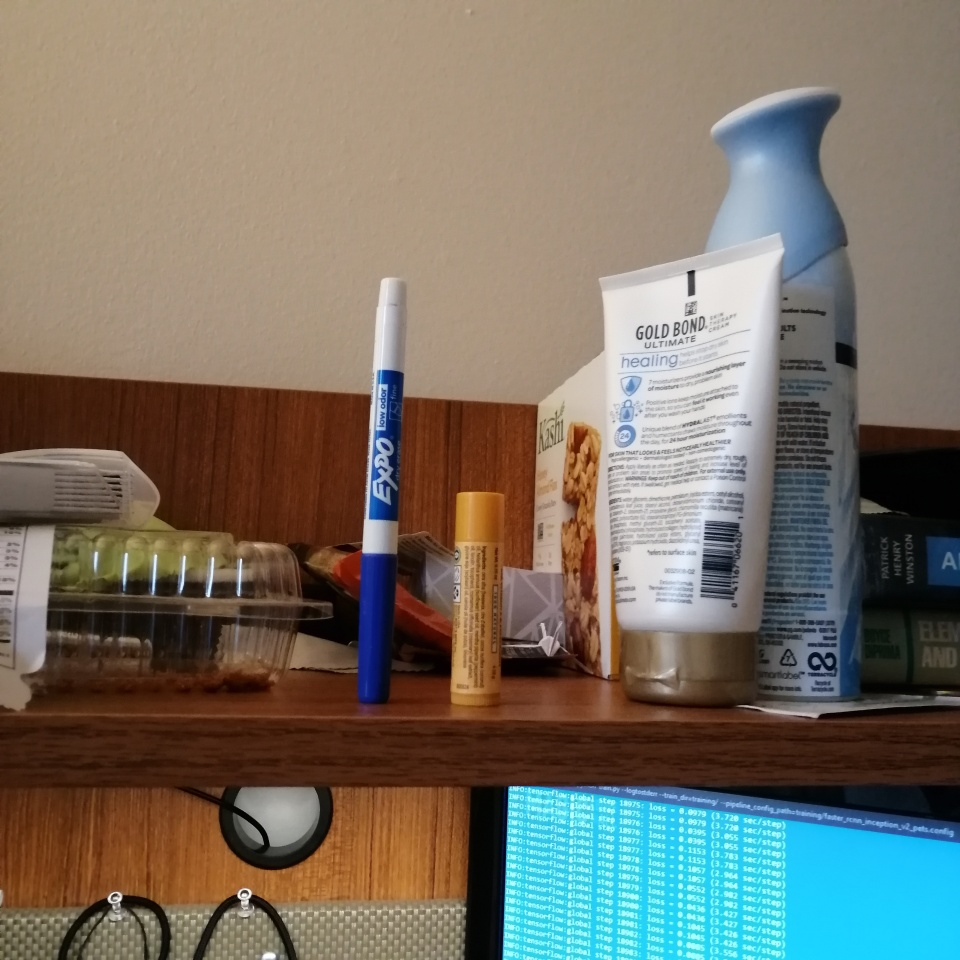chapstick: (451, 491, 505, 707)
